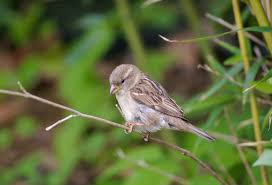hsparrow: (103, 61, 222, 153)
